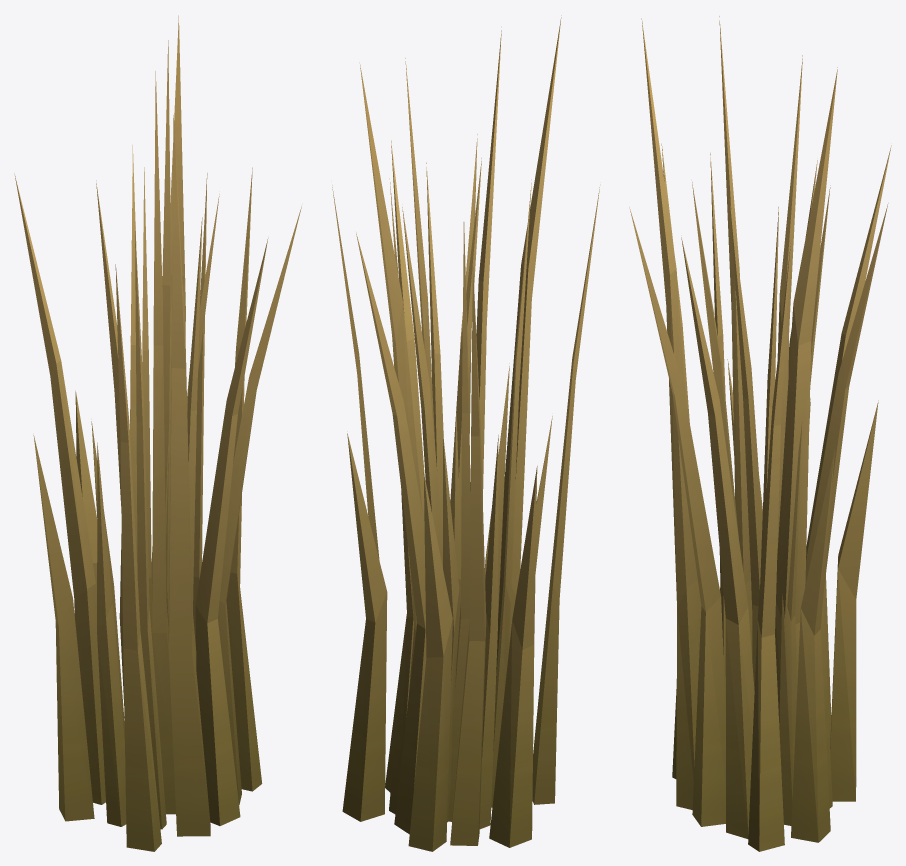
File: tallgrass_c.glb
3 renders of one model, left to right at view 1: azimuth 30°, elevation 25°; view 2: azimuth 150°, elevation 25°; view 3: azimuth 270°, elevation 25°, orthographic.
Visible parts, largest first — view 1: GrassHigh_B_4; view 2: GrassHigh_B_4; view 3: GrassHigh_B_4.
Part boxes in pixels (bbox=[...]): GrassHigh_B_4: bbox=[14, 15, 301, 851]; GrassHigh_B_4: bbox=[332, 15, 600, 851]; GrassHigh_B_4: bbox=[629, 16, 891, 851].
Size of the model in its own units: 0.3034 by 1.05 by 0.3227.
1 material, 1 textured.
